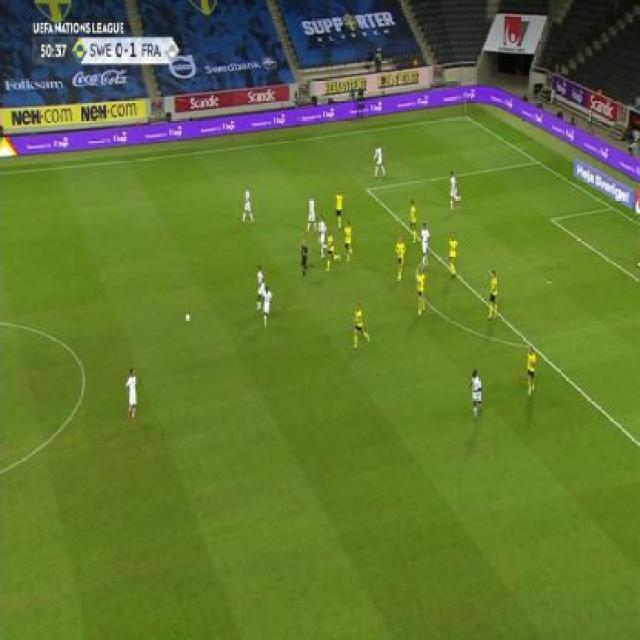ball: (185, 311, 191, 322)
player: (468, 367, 485, 424), (352, 303, 371, 352), (125, 365, 139, 424), (323, 228, 340, 273), (486, 267, 500, 321), (415, 263, 429, 317), (525, 345, 538, 398), (447, 169, 463, 212), (394, 235, 408, 283), (447, 230, 460, 278), (254, 264, 267, 312), (260, 285, 274, 328), (342, 218, 355, 264), (419, 222, 432, 267), (371, 143, 387, 179), (241, 185, 255, 225), (305, 192, 318, 234), (409, 197, 420, 240), (334, 188, 345, 230), (300, 237, 309, 283), (317, 215, 328, 251)
